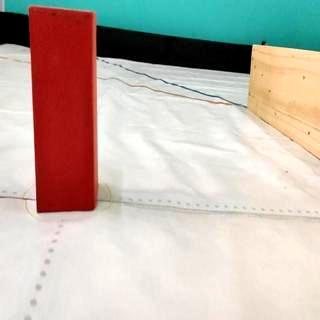redbox: (30, 4, 100, 214)
